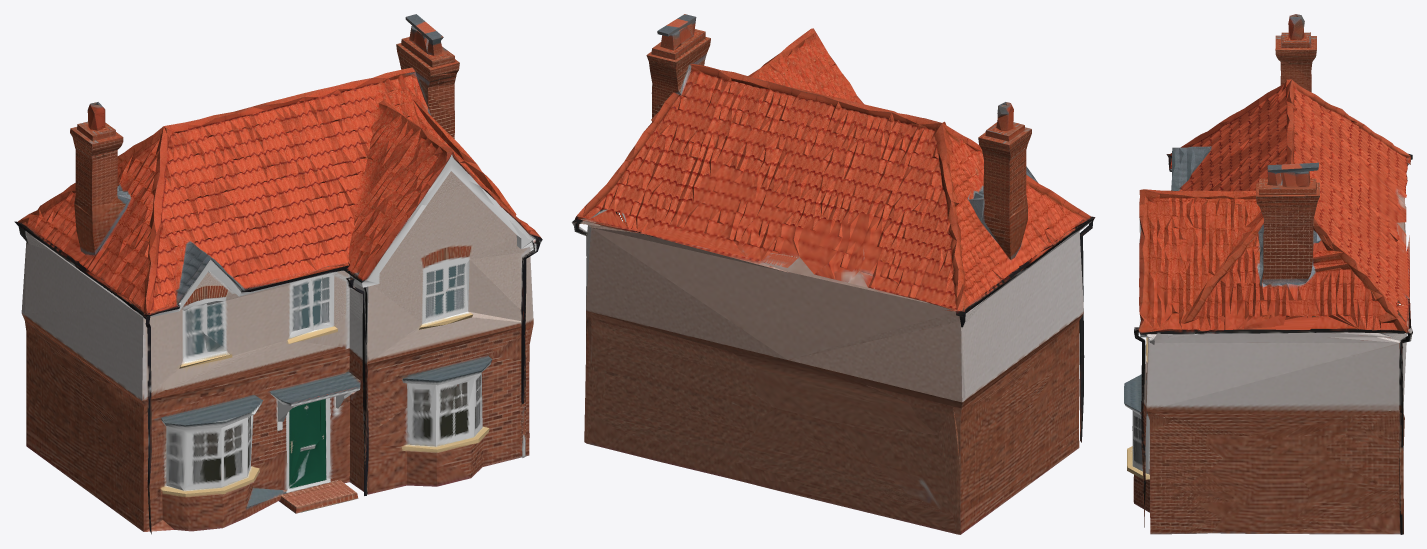
File: house.glb
3 renders of one model, left to right at view 1: azimuth 30°, elevation 25°; view 2: azimuth 150°, elevation 25°; view 3: azimuth 270°, elevation 25°, orthographic. The views are drawn at different scales.
Bounding box in the file's own units: 1.9 × 1.8 × 1.31.
1 material, 1 textured.
